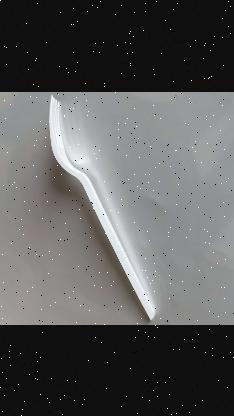Others: (34, 91, 173, 320)
